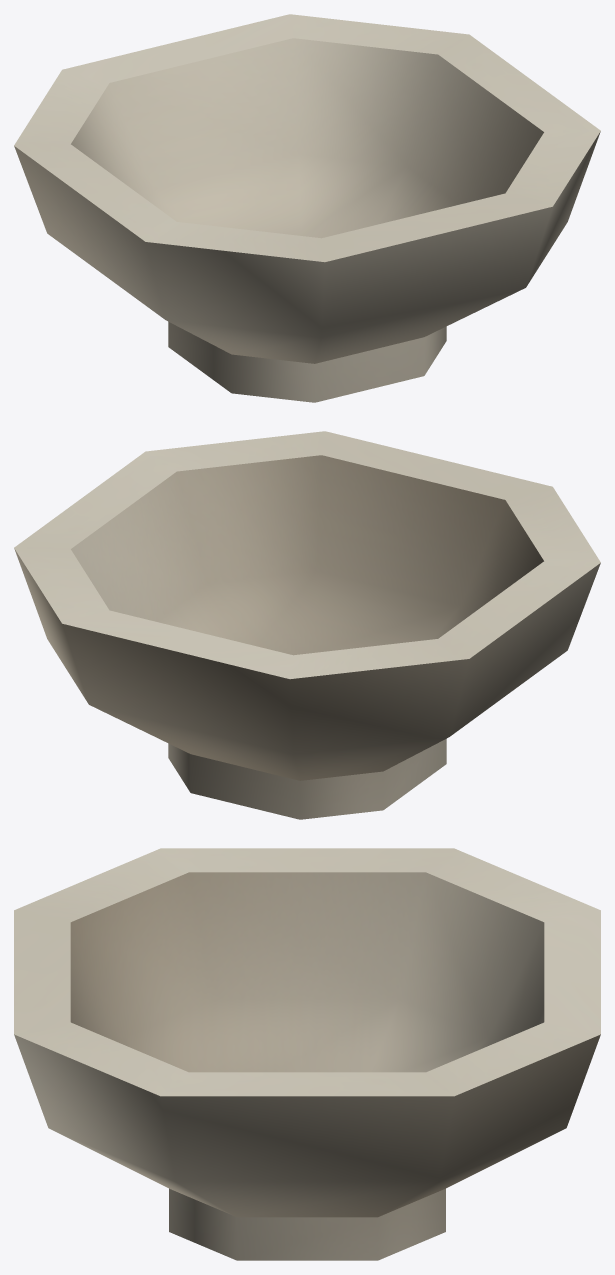
File: bowl_small_ceramic.fbx
3 renders of one model, top to bottom at view 1: azimuth 30°, elevation 25°; view 2: azimuth 150°, elevation 25°; view 3: azimuth 270°, elevation 25°, orthographic. The views are drawn at different scales.
Visible parts, largest first — view 1: bowl_small_ceramic; view 2: bowl_small_ceramic; view 3: bowl_small_ceramic.
Boxes of the visible parts, x1,y1,x2,y2 form: bowl_small_ceramic: (14, 14, 600, 402); bowl_small_ceramic: (14, 431, 600, 819); bowl_small_ceramic: (14, 848, 600, 1260).
Bounding box in the file's own units: 29.37 × 12.68 × 29.37.
